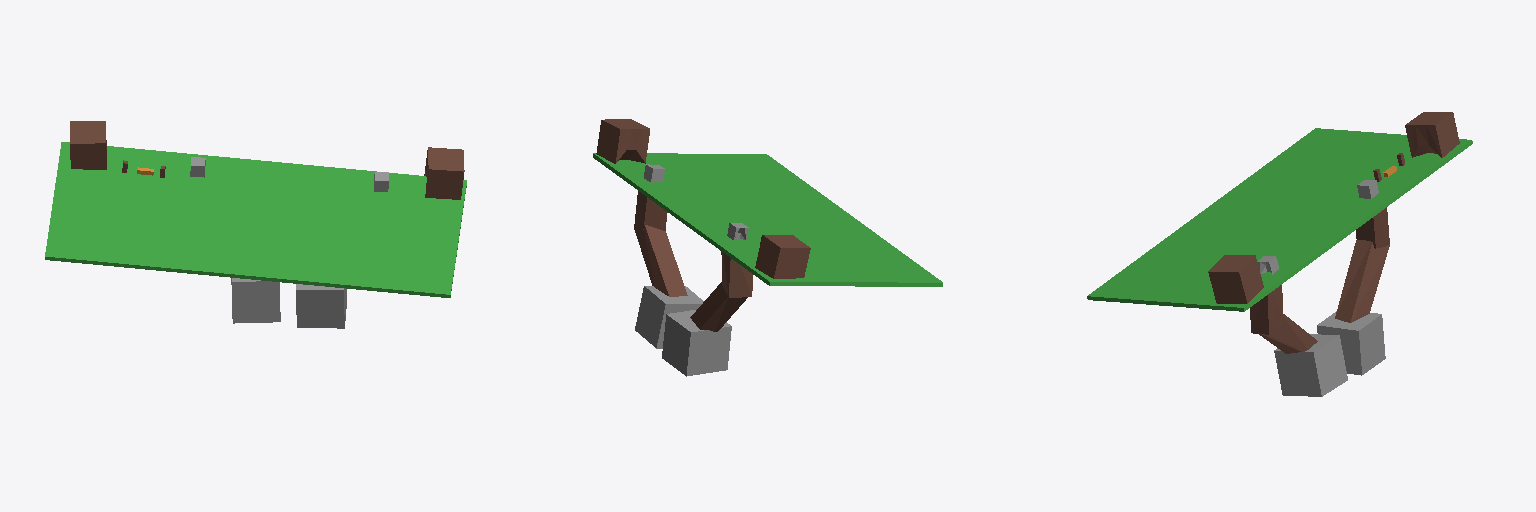
The picture shows the model from 3 angles: view 1: azimuth 30°, elevation 25°; view 2: azimuth 150°, elevation 25°; view 3: azimuth 270°, elevation 25°; orthographic projection.
Parts seen in each view (by area): view 1: group[number redacted], group[number redacted], group[number redacted], group[number redacted], group[number redacted]; view 2: group[number redacted], group[number redacted], group[number redacted], group[number redacted], group[number redacted], group[number redacted], group[number redacted], group[number redacted], group[number redacted]; view 3: group[number redacted], group[number redacted], group[number redacted], group[number redacted], group[number redacted], group[number redacted], group[number redacted], group[number redacted], group[number redacted].
Boxes of the visible parts, x1=… form: group[number redacted]: x1=45, y1=142, x2=466, y2=297; group[number redacted]: x1=296, y1=284, x2=346, y2=328; group[number redacted]: x1=231, y1=278, x2=280, y2=323; group[number redacted]: x1=424, y1=147, x2=464, y2=199; group[number redacted]: x1=70, y1=121, x2=106, y2=169; group[number redacted]: x1=593, y1=153, x2=942, y2=286; group[number redacted]: x1=662, y1=310, x2=731, y2=376; group[number redacted]: x1=634, y1=215, x2=687, y2=296; group[number redacted]: x1=635, y1=286, x2=703, y2=348; group[number redacted]: x1=755, y1=235, x2=810, y2=278; group[number redacted]: x1=596, y1=119, x2=649, y2=163; group[number redacted]: x1=690, y1=282, x2=747, y2=331; group[number redacted]: x1=721, y1=251, x2=752, y2=297; group[number redacted]: x1=634, y1=191, x2=667, y2=233; group[number redacted]: x1=1087, y1=128, x2=1472, y2=311; group[number redacted]: x1=1274, y1=334, x2=1347, y2=396; group[number redacted]: x1=1335, y1=240, x2=1389, y2=322; group[number redacted]: x1=1317, y1=311, x2=1385, y2=375; group[number redacted]: x1=1208, y1=255, x2=1263, y2=303; group[number redacted]: x1=1405, y1=112, x2=1459, y2=157; group[number redacted]: x1=1259, y1=309, x2=1317, y2=353; group[number redacted]: x1=1250, y1=285, x2=1283, y2=334; group[number redacted]: x1=1356, y1=207, x2=1389, y2=248.
Bounding box in the file's own units: 1.86 × 0.8794 × 1.6.